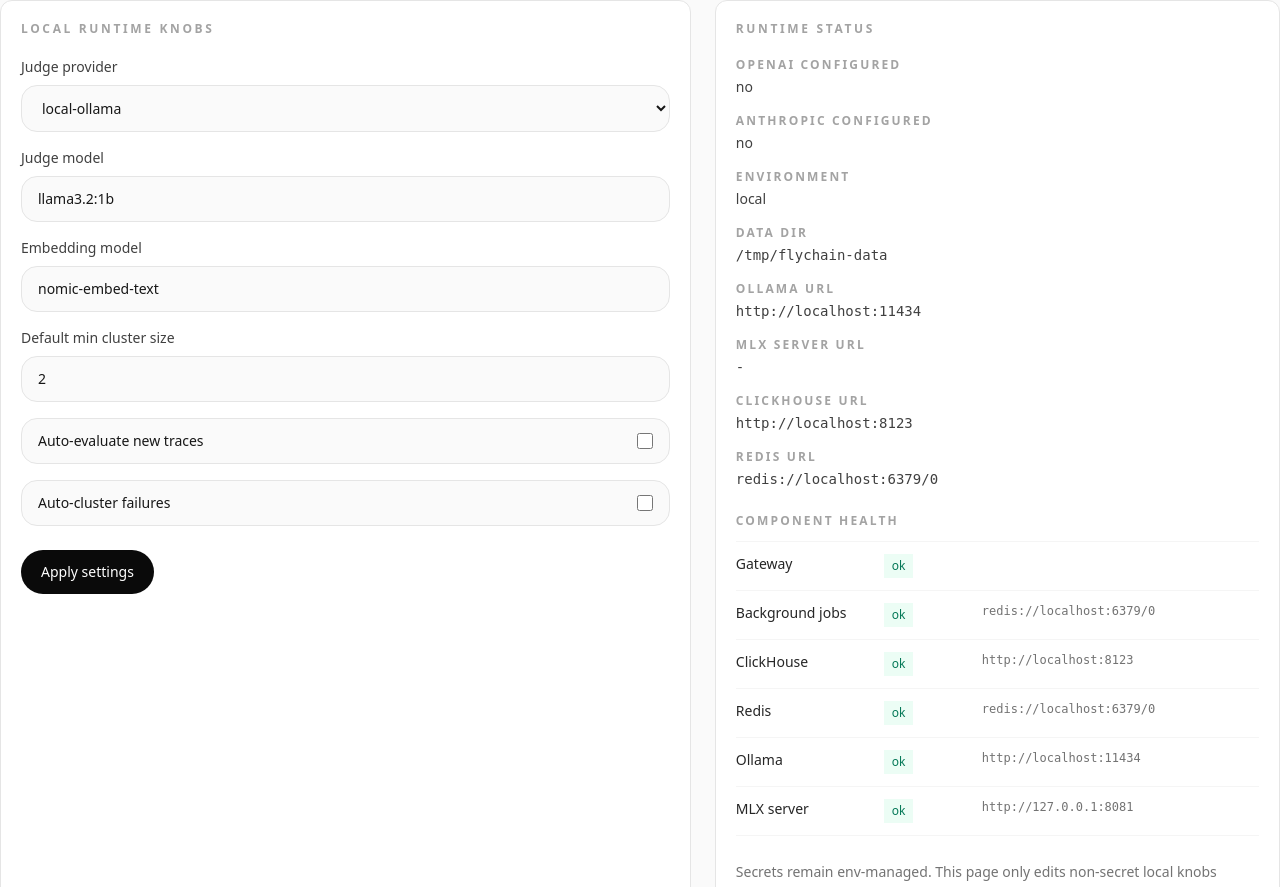
SettingsClient › saves edited runtime knobs
This screenshot has width=1280, height=887.
Expected: the text "Component health" is shown, [736,512,899,529]
Expected: the text "Background jobs" is shown, [736,603,846,622]
Step 1. Replace the text in the field labelled "Judge model" with "llama3.2:3b" → point(345, 199), box [21,176,670,222]
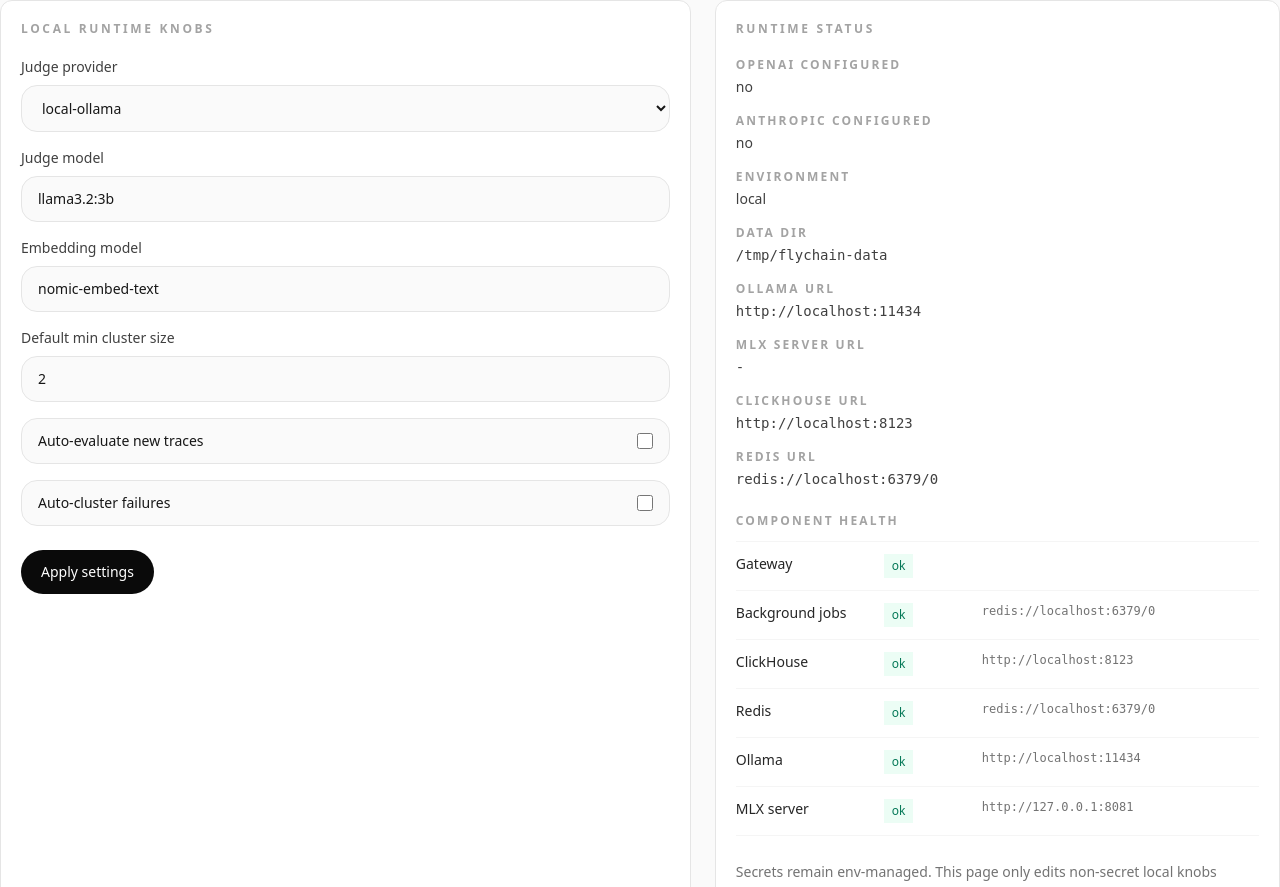
Step 2. Click the button "Apply settings" → point(87, 572), box [21,550,154,594]
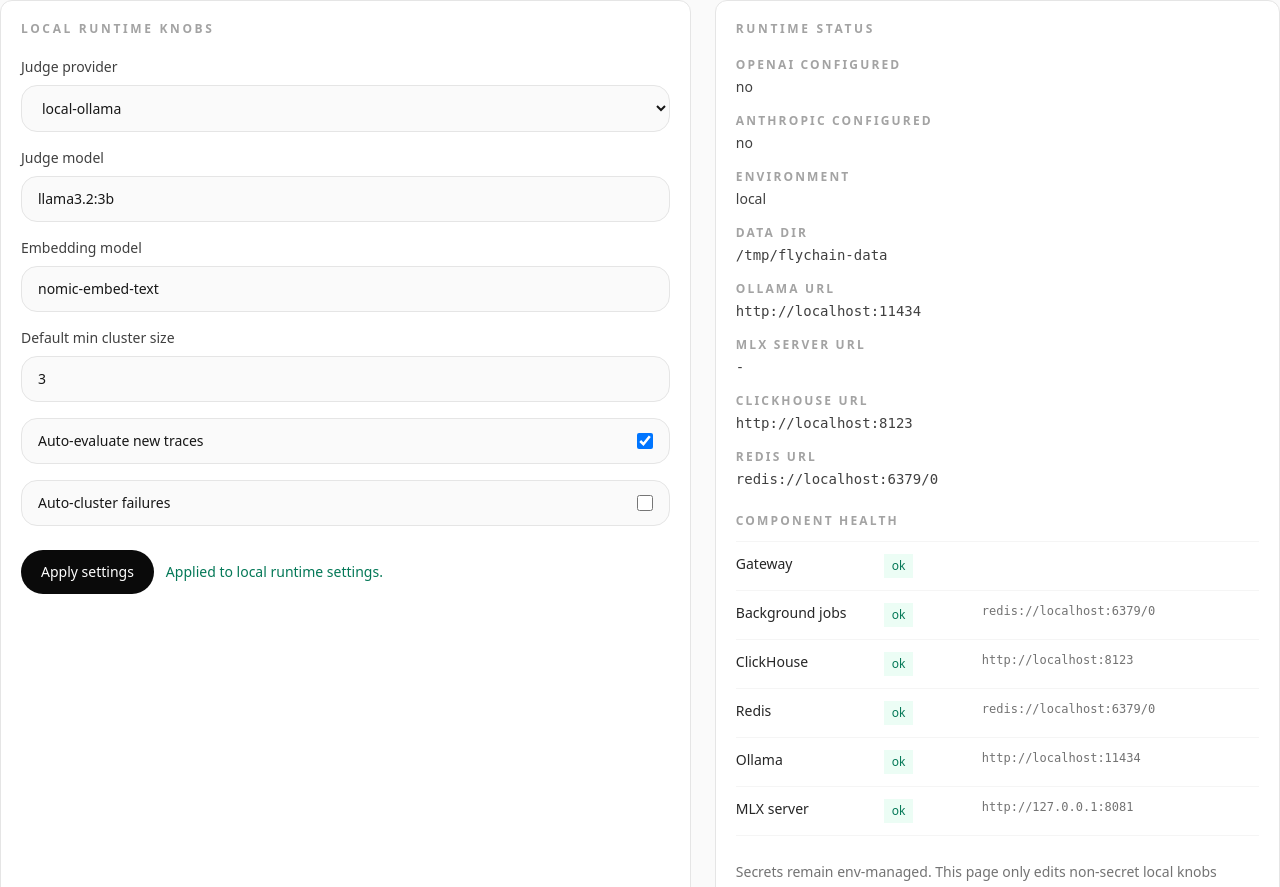
Expected: the text "Applied to local runtime settings." is shown, [166,562,383,582]
